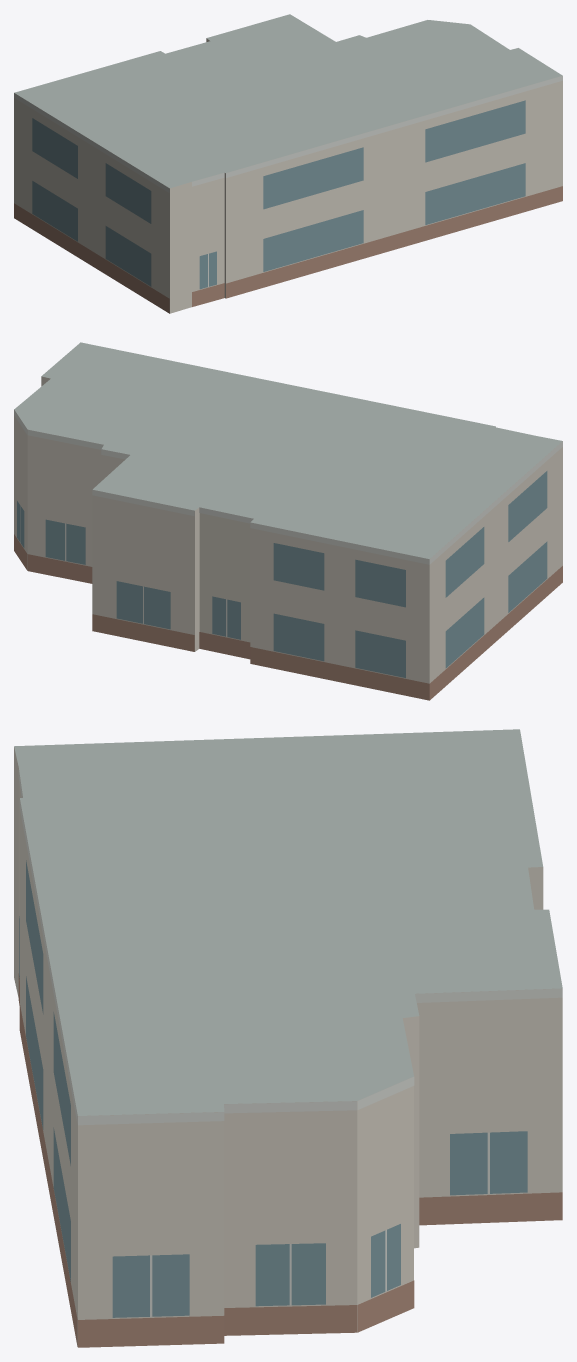
File: survey-upis-32670354.glb
3 views of the same model, one above another, from view 1: azimuth 30°, elevation 25°; view 2: azimuth 150°, elevation 25°; view 3: azimuth 270°, elevation 25° (orthographic). The views are drawn at different scales.
Visible parts, largest first — view 1: survey-upis-32670354.tmp; view 2: survey-upis-32670354.tmp; view 3: survey-upis-32670354.tmp.
Part boxes in pixels (x1,y1,x2,y2): survey-upis-32670354.tmp: (14,14,562,313); survey-upis-32670354.tmp: (14,342,562,700); survey-upis-32670354.tmp: (14,729,562,1347).
Size of the model in its own units: 21.86 by 6.1 by 13.1.
